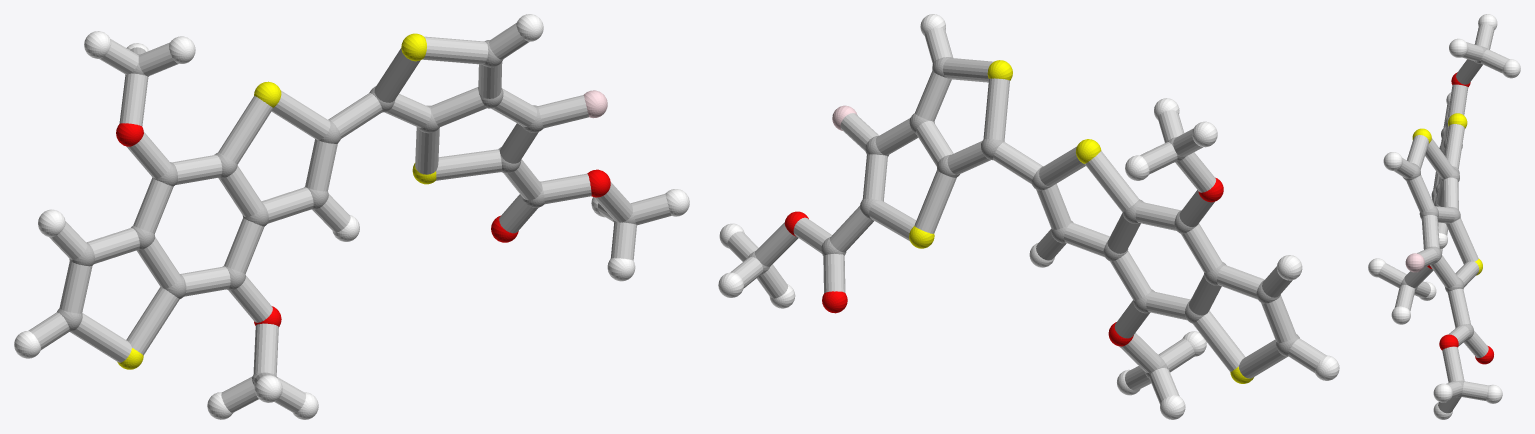
File: Dimethoxy_Benzodithiophene_Phi_25_Theta_210_Methylcarbonyl_3_Fluoro_Thienothiophene.glb
The picture shows the model from 3 angles, left to right: view 1: azimuth 30°, elevation 25°; view 2: azimuth 150°, elevation 25°; view 3: azimuth 270°, elevation 25°; orthographic projection. The views are drawn at different scales.
Visible parts, largest first — view 1: grp15205, grp8689, grp1, grp7241, grp13395; view 2: grp15205, grp8689, grp1, grp7241, grp13395; view 3: grp15205, grp8689, grp1, grp13395, grp7241, grp14843.
Boxes of the visible parts, <box> form: grp15205: <box>28,22,671,412</box>; grp8689: <box>14,14,689,419</box>; grp1: <box>57,40,636,383</box>; grp7241: <box>117,33,436,369</box>; grp13395: <box>116,123,610,326</box>; grp15205: <box>727,28,1325,404</box>; grp8689: <box>718,14,1339,419</box>; grp1: <box>747,57,1299,378</box>; grp7241: <box>909,60,1253,383</box>; grp13395: <box>784,177,1223,346</box>; grp15205: <box>1378,24,1509,413</box>; grp8689: <box>1368,14,1520,419</box>; grp1: <box>1400,46,1487,397</box>; grp13395: <box>1427,72,1493,364</box>; grp7241: <box>1412,113,1482,275</box>; grp14843: <box>1405,253,1424,272</box>.
Size of the model in its own units: 16.64 by 8.91 by 4.74.
